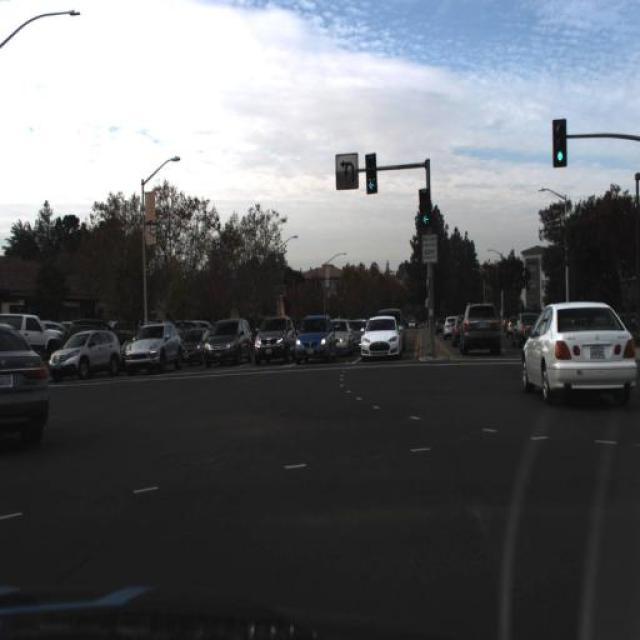car: (49, 325, 120, 376), (124, 320, 184, 378), (2, 311, 64, 353), (204, 316, 252, 366), (462, 302, 503, 358), (254, 314, 295, 368), (295, 316, 336, 366), (359, 315, 403, 357), (260, 316, 298, 362), (180, 326, 206, 365), (515, 308, 539, 348), (334, 315, 354, 356), (443, 308, 456, 342), (434, 306, 447, 338), (452, 314, 463, 346)
trafficLight-Green: (418, 190, 431, 230)
trafficLight-GreenLeft: (552, 120, 566, 168)
trafficLight-Red: (417, 184, 434, 234), (364, 151, 380, 194)
